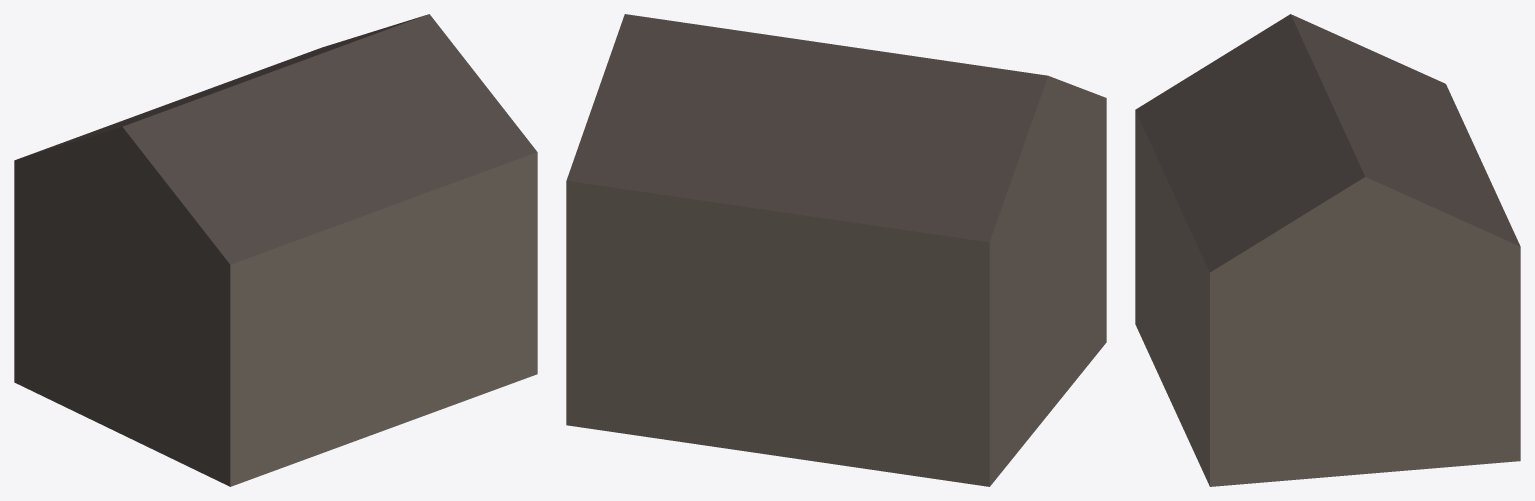
3 views of the same model, side by side, from view 1: azimuth 30°, elevation 25°; view 2: azimuth 150°, elevation 25°; view 3: azimuth 270°, elevation 25° (orthographic). The views are drawn at different scales.
Visible parts, largest first — view 1: HP-w1376988803; view 2: HP-w1376988803; view 3: HP-w1376988803.
Boxes of the visible parts, x1,y1,x2,y2 form: HP-w1376988803: [14, 14, 537, 486]; HP-w1376988803: [566, 14, 1106, 486]; HP-w1376988803: [1135, 14, 1520, 486].
Bounding box in the file's own units: 11.33 × 8.32 × 9.78.
